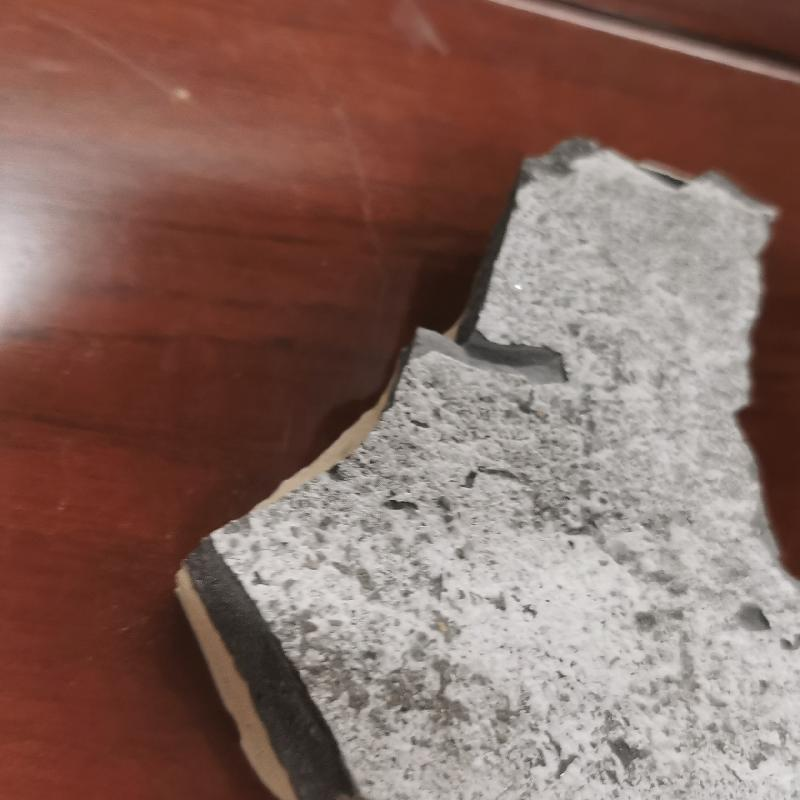tile: (167, 132, 800, 799)
